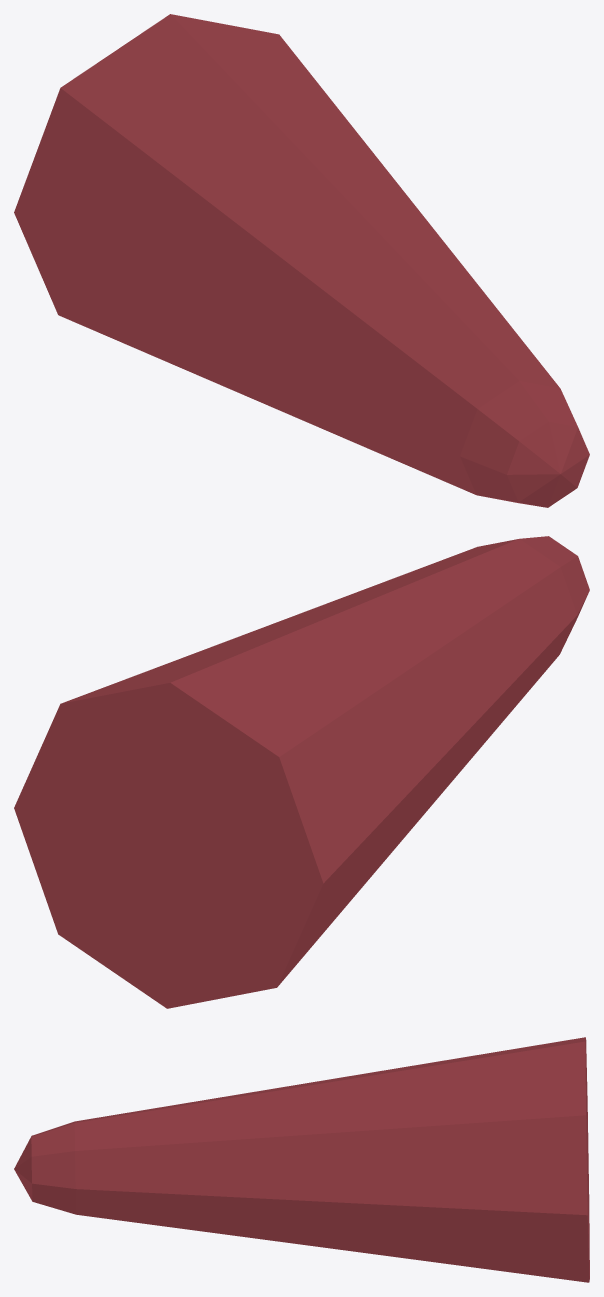
The model's file is Pestail.glb.
3 renders of one model, top to bottom at view 1: azimuth 30°, elevation 25°; view 2: azimuth 150°, elevation 25°; view 3: azimuth 270°, elevation 25°, orthographic. The views are drawn at different scales.
Parts seen in each view (by area): view 1: Pestail; view 2: Pestail; view 3: Pestail.
Part boxes in pixels (box(x1,y1,x2,y2)): Pestail: box(14, 14, 589, 507); Pestail: box(14, 536, 589, 1008); Pestail: box(14, 1037, 589, 1282).
Bounding box in the file's own units: 0.8306 × 0.8305 × 1.83.
Materials: 1 (1 with a texture image).
